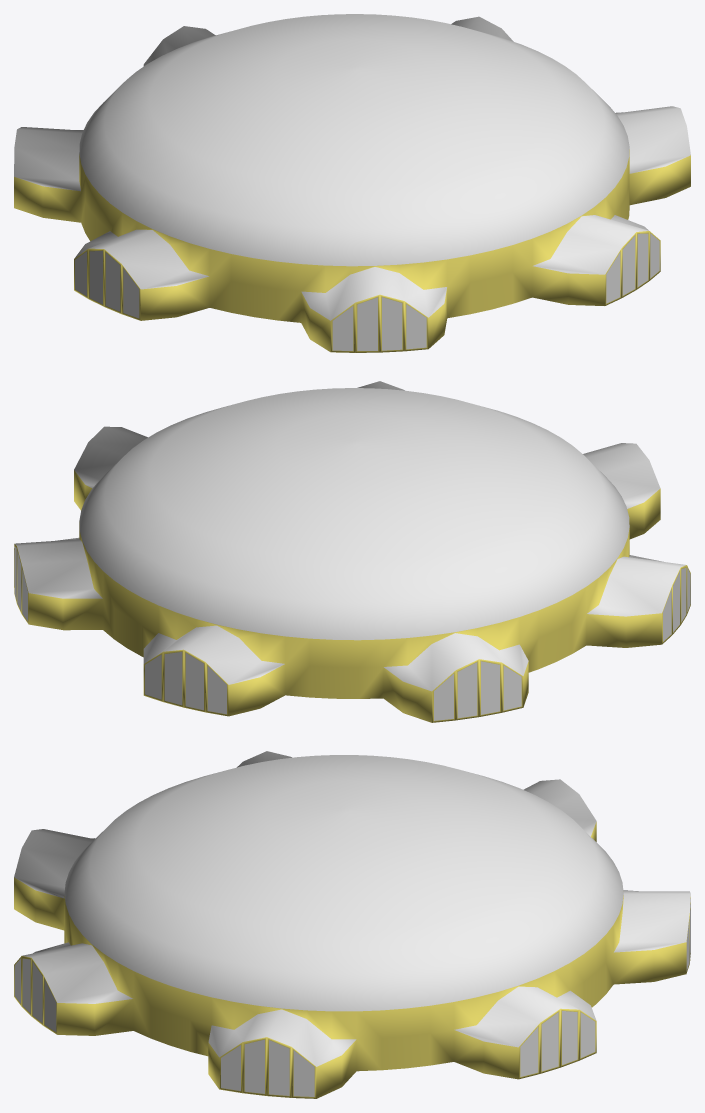
The model's file is ParadiseFloorWallsCathedral.fbx.
3 renders of one model, top to bottom at view 1: azimuth 30°, elevation 25°; view 2: azimuth 150°, elevation 25°; view 3: azimuth 270°, elevation 25°, orthographic.
Parts seen in each view (by area): view 1: WallSolid.Cathedral; view 2: WallSolid.Cathedral; view 3: WallSolid.Cathedral.
Boxes of the visible parts, x1,y1,x2,y2 form: WallSolid.Cathedral: (14,14,690,352); WallSolid.Cathedral: (14,381,690,722); WallSolid.Cathedral: (14,751,690,1098).
Bounding box in the file's own units: 17137 × 3897 × 16805.
